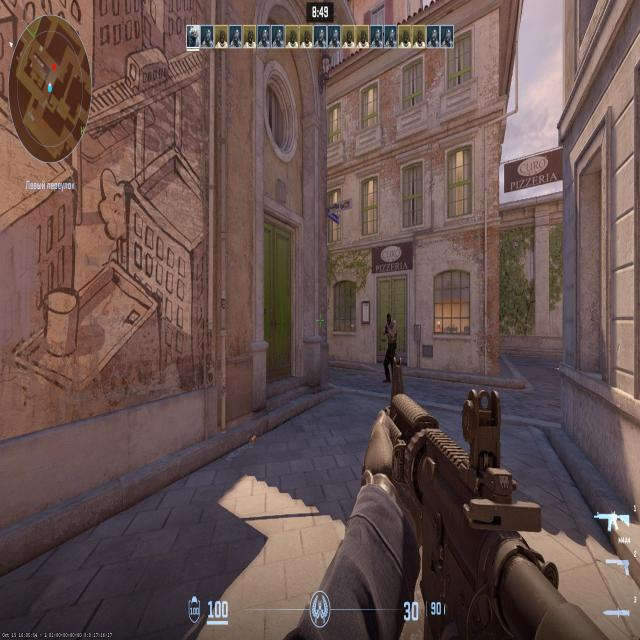T: (387, 316, 395, 366)
T_heat: (388, 319, 394, 327)
